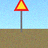sign: (14, 0, 29, 35)
